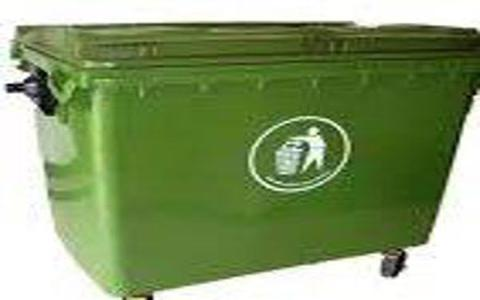Proper garbage: (1, 1, 479, 298)
